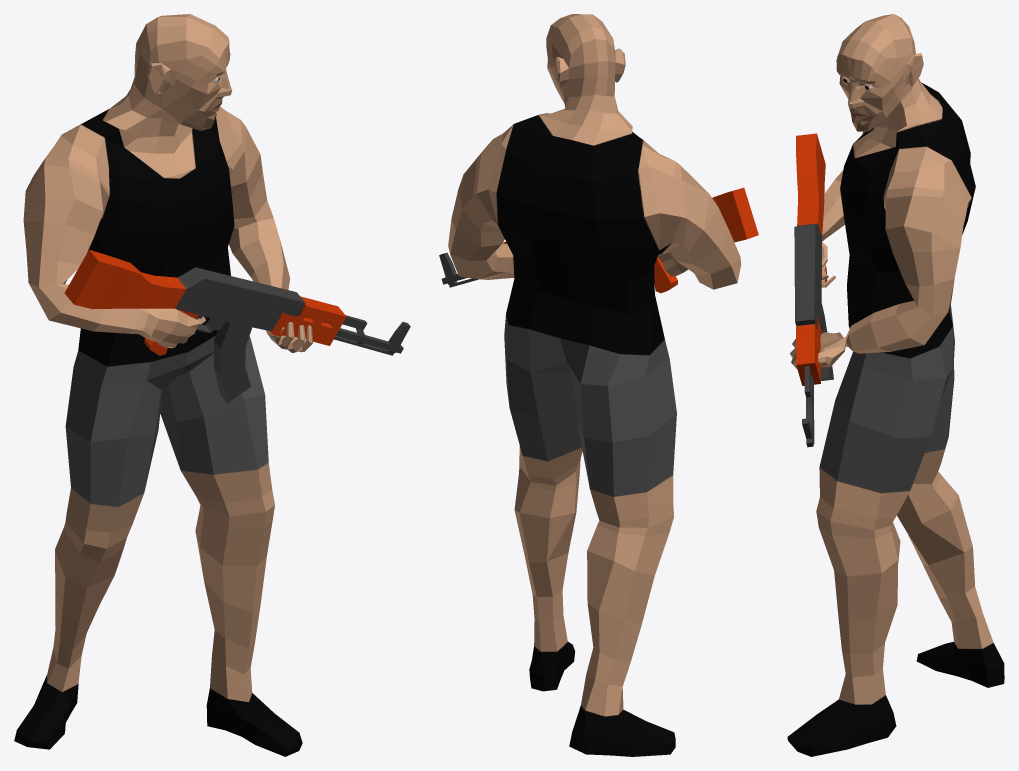
Rendered from PlayerIdle(148).obj.
3 renders of one model, left to right at view 1: azimuth 30°, elevation 25°; view 2: azimuth 150°, elevation 25°; view 3: azimuth 270°, elevation 25°, orthographic. The views are drawn at different scales.
Parts seen in each view (by area): view 1: Plane002, Object001; view 2: Plane002, Object001; view 3: Plane002, Object001.
Part boxes in pixels (x1=…): Plane002: x1=14, y1=14, x2=328, y2=756; Object001: x1=64, y1=249, x2=410, y2=403; Plane002: x1=448, y1=14, x2=741, y2=756; Object001: x1=439, y1=187, x2=758, y2=293; Plane002: x1=787, y1=14, x2=1004, y2=756; Object001: x1=794, y1=133, x2=833, y2=447.
Size of the model in its own units: 893 by 1790 by 505.
